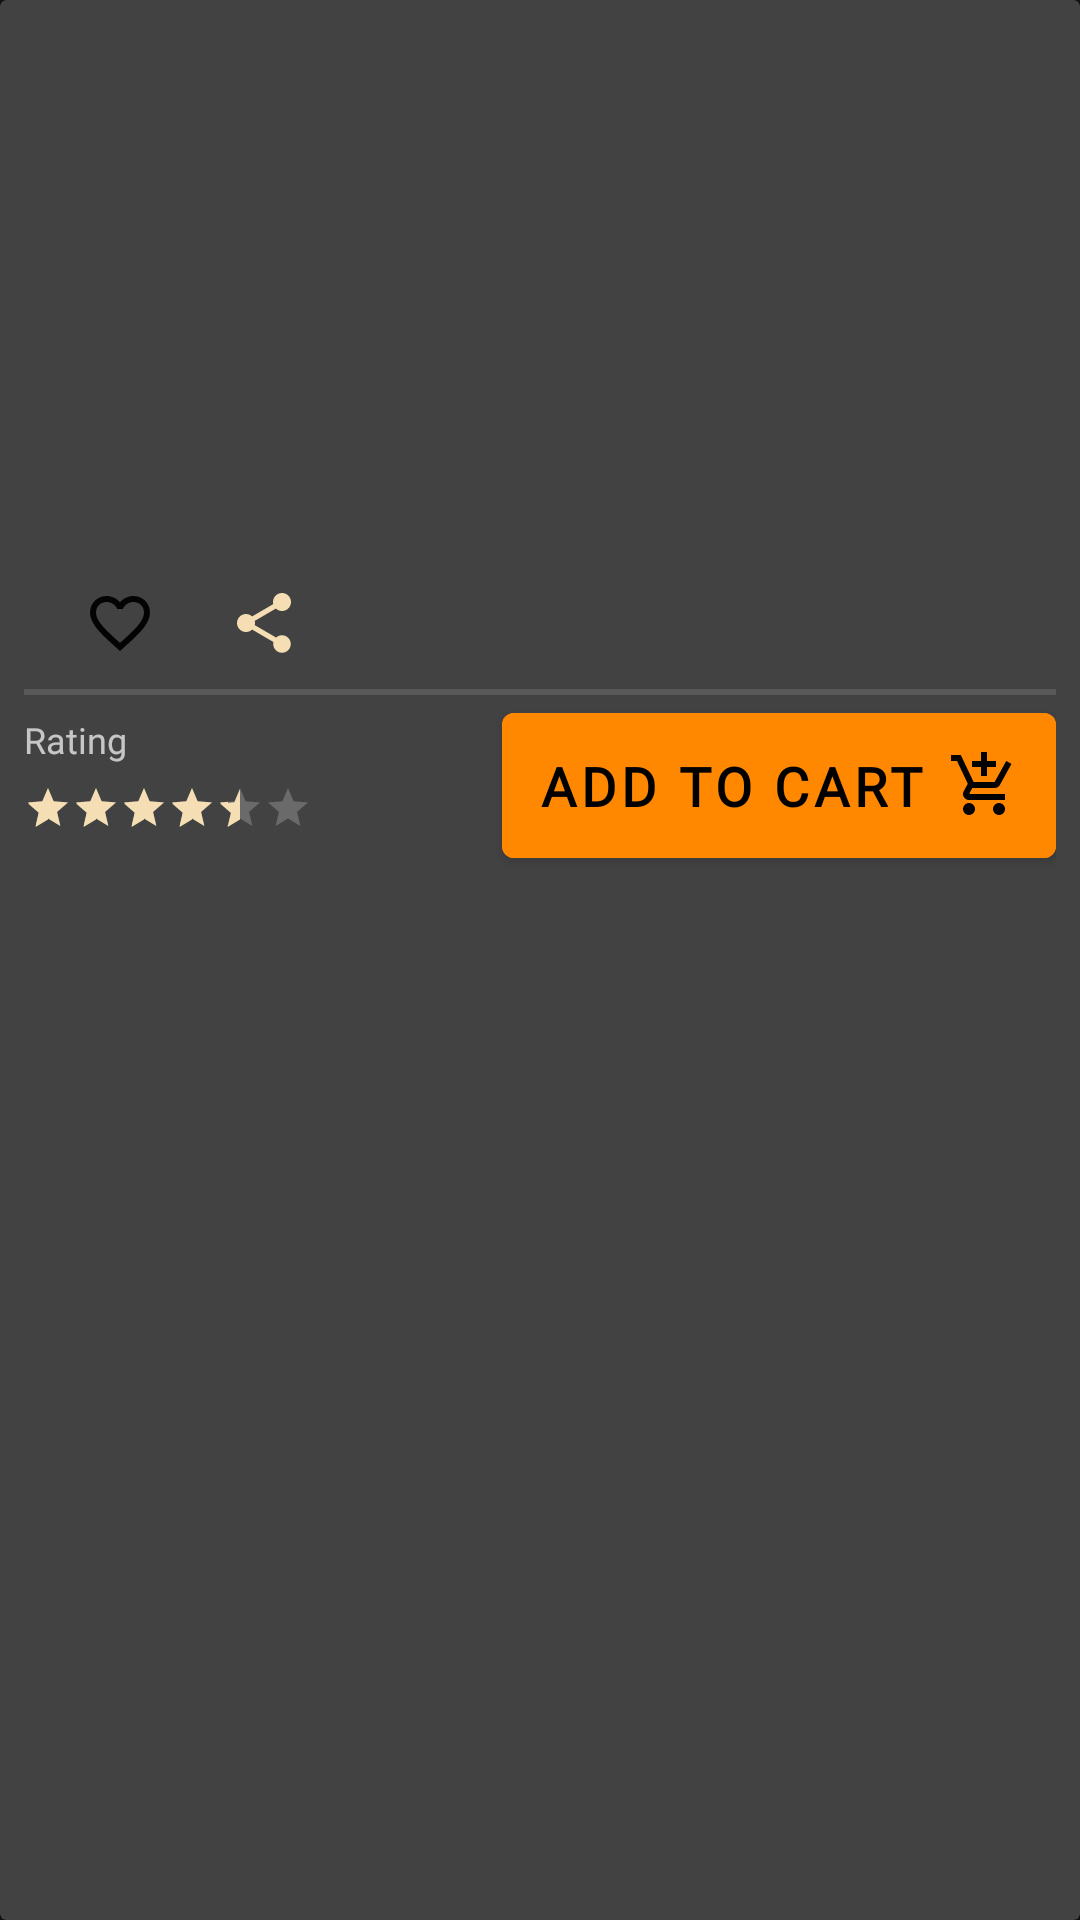

Icons on this 1080×1920 Android screen, each with the point to tap as (x,y):
favorite border: (120,623)
share: (264,623)
